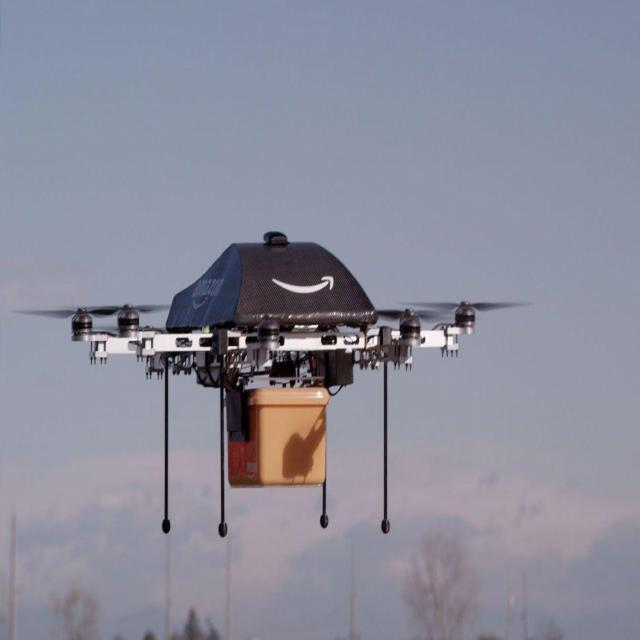UAV: (67, 223, 477, 542)
